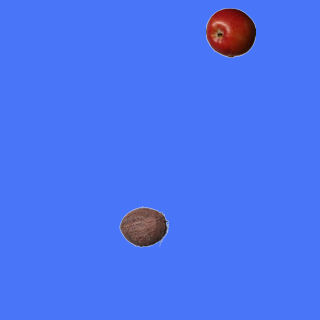Apple Braeburn: (205, 7, 255, 57)
Cocos: (118, 201, 168, 251)
